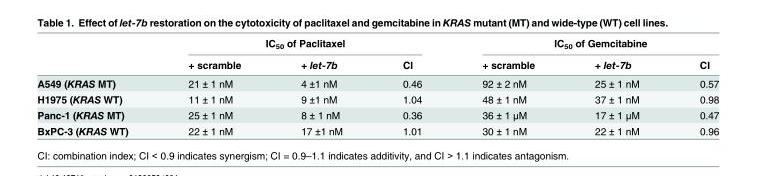table: (36, 36, 718, 137)
table column: (36, 36, 157, 137), (157, 36, 270, 137), (451, 36, 564, 137), (564, 36, 668, 137), (270, 36, 371, 137), (371, 36, 451, 137), (668, 36, 718, 137)
table column header: (36, 36, 718, 73)
table row: (36, 53, 718, 73), (36, 73, 718, 91), (36, 36, 718, 53), (36, 91, 718, 107), (36, 107, 718, 122), (36, 122, 718, 137)
table spanning cell: (157, 36, 451, 53), (451, 36, 718, 53)
